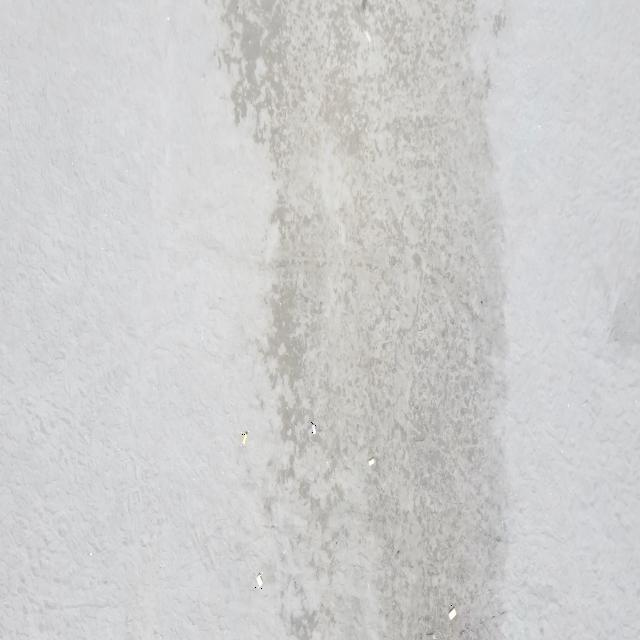Garbage: (447, 604, 455, 620), (364, 30, 371, 43), (240, 431, 247, 444), (256, 572, 261, 587), (311, 420, 316, 433), (367, 456, 373, 464)
